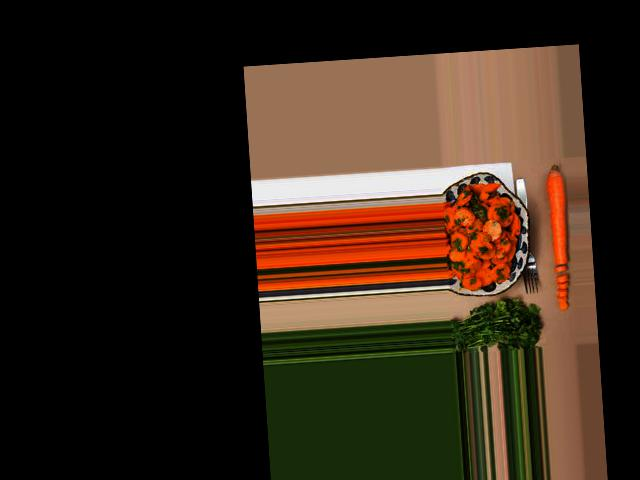carrot: (545, 164, 571, 273)
